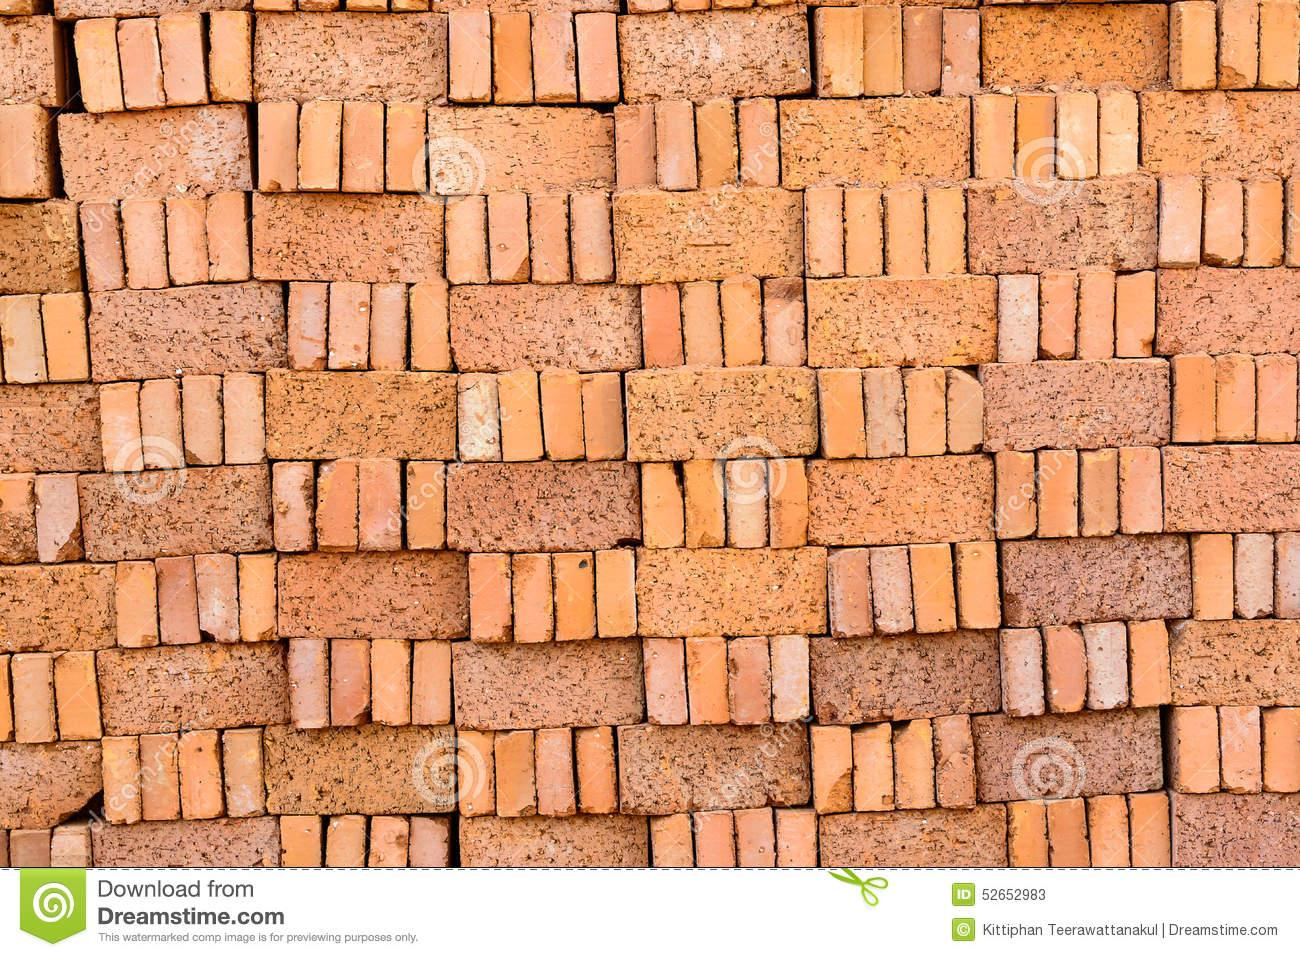brick: (89, 281, 288, 382), (618, 4, 810, 105), (58, 105, 252, 201), (79, 464, 273, 560), (968, 176, 1157, 274), (613, 187, 802, 284), (811, 628, 1001, 725), (625, 366, 818, 461), (97, 642, 290, 735), (973, 708, 1163, 802), (253, 12, 447, 104), (252, 190, 443, 283), (618, 723, 810, 815), (452, 638, 644, 730), (447, 461, 641, 552), (981, 359, 1170, 452), (780, 98, 970, 189), (807, 276, 997, 366), (266, 369, 456, 460), (637, 546, 827, 637), (1003, 536, 1192, 627), (449, 283, 641, 371), (264, 726, 455, 815), (980, 4, 1167, 94), (808, 454, 994, 544), (429, 106, 615, 195), (278, 551, 467, 637), (1141, 90, 1300, 178), (1156, 267, 1300, 353), (1163, 443, 1300, 532), (819, 804, 1007, 866), (1171, 618, 1300, 705), (0, 563, 117, 653), (460, 814, 648, 867), (93, 817, 280, 867), (1173, 793, 1300, 866), (0, 741, 102, 830), (0, 385, 101, 471), (1, 200, 81, 294), (1, 15, 57, 108), (158, 11, 208, 106), (74, 18, 123, 113), (117, 17, 166, 109), (0, 294, 48, 384), (818, 368, 866, 458), (41, 292, 89, 382), (909, 544, 957, 634), (121, 200, 169, 289), (35, 473, 83, 562), (1158, 175, 1203, 267), (817, 7, 863, 97), (933, 714, 976, 810), (498, 373, 544, 461), (55, 651, 101, 740), (11, 654, 58, 743), (541, 365, 584, 460), (80, 202, 125, 292), (828, 547, 873, 637), (155, 555, 201, 645), (178, 730, 223, 820), (206, 190, 250, 282), (532, 10, 576, 102), (139, 379, 184, 468), (195, 553, 239, 643), (222, 728, 266, 818), (1083, 622, 1128, 710), (209, 10, 252, 102), (1000, 628, 1045, 717), (570, 193, 614, 284), (862, 366, 905, 457), (1171, 1, 1216, 88), (575, 12, 619, 103), (358, 458, 401, 551), (316, 458, 358, 551), (552, 552, 597, 640), (686, 637, 731, 725), (763, 277, 806, 366), (1172, 351, 1215, 441), (902, 366, 946, 456), (100, 383, 143, 472), (468, 553, 512, 643), (721, 276, 763, 367), (223, 370, 264, 464), (299, 101, 342, 190), (581, 373, 625, 461), (1216, 0, 1260, 89), (957, 542, 1001, 629), (529, 193, 571, 284), (342, 100, 384, 193), (273, 461, 315, 551), (449, 10, 491, 102), (1043, 626, 1086, 713), (644, 638, 687, 725), (458, 374, 501, 462), (1129, 619, 1172, 708), (729, 636, 771, 725), (696, 98, 738, 189), (115, 561, 158, 647), (1176, 707, 1219, 792), (328, 282, 370, 369), (1119, 446, 1162, 534), (871, 546, 913, 634), (1256, 352, 1297, 442), (445, 197, 489, 282), (167, 198, 209, 285), (737, 98, 778, 187), (884, 187, 926, 276), (488, 194, 529, 283), (287, 282, 328, 370), (726, 459, 767, 548), (893, 720, 935, 809), (513, 553, 553, 644), (995, 451, 1037, 539), (853, 723, 894, 811), (656, 100, 696, 190), (289, 638, 329, 728), (863, 4, 902, 96), (973, 94, 1015, 179), (641, 284, 683, 368), (681, 281, 723, 367), (642, 461, 683, 548), (576, 726, 618, 813), (386, 102, 426, 191), (1203, 177, 1243, 265), (1260, 0, 1300, 89), (1220, 705, 1261, 793), (811, 725, 852, 814), (494, 11, 532, 104), (684, 460, 725, 548), (535, 728, 575, 816), (843, 187, 882, 277), (183, 375, 222, 464), (407, 460, 446, 550), (1056, 94, 1097, 179), (615, 104, 655, 191), (998, 276, 1039, 362), (410, 284, 450, 370), (1192, 534, 1232, 621), (597, 550, 637, 637), (140, 733, 181, 820), (1244, 177, 1284, 265), (768, 458, 807, 547), (102, 736, 141, 825), (258, 103, 298, 191), (804, 187, 843, 277), (239, 552, 278, 642), (1116, 271, 1156, 357), (371, 639, 411, 726), (496, 731, 535, 818), (1080, 448, 1118, 537), (0, 105, 37, 196), (1098, 91, 1137, 177), (1216, 353, 1255, 441), (331, 639, 369, 727), (927, 188, 965, 275), (369, 284, 408, 370), (1039, 450, 1077, 537), (412, 639, 450, 725), (1041, 271, 1078, 358), (1077, 273, 1114, 360), (903, 6, 941, 94), (942, 9, 979, 97), (771, 634, 808, 722), (1016, 95, 1055, 180), (1235, 534, 1274, 619), (946, 366, 983, 453), (457, 731, 495, 817), (1, 473, 36, 563), (1263, 707, 1300, 791), (1088, 794, 1129, 867), (1047, 797, 1089, 867), (1130, 791, 1170, 866), (1007, 800, 1048, 867), (734, 808, 774, 866), (776, 809, 817, 867), (694, 811, 735, 867), (651, 814, 693, 867), (1275, 532, 1300, 618), (281, 816, 322, 867), (368, 816, 409, 867), (410, 817, 450, 867), (326, 816, 365, 867), (50, 830, 91, 867), (10, 830, 50, 867)
